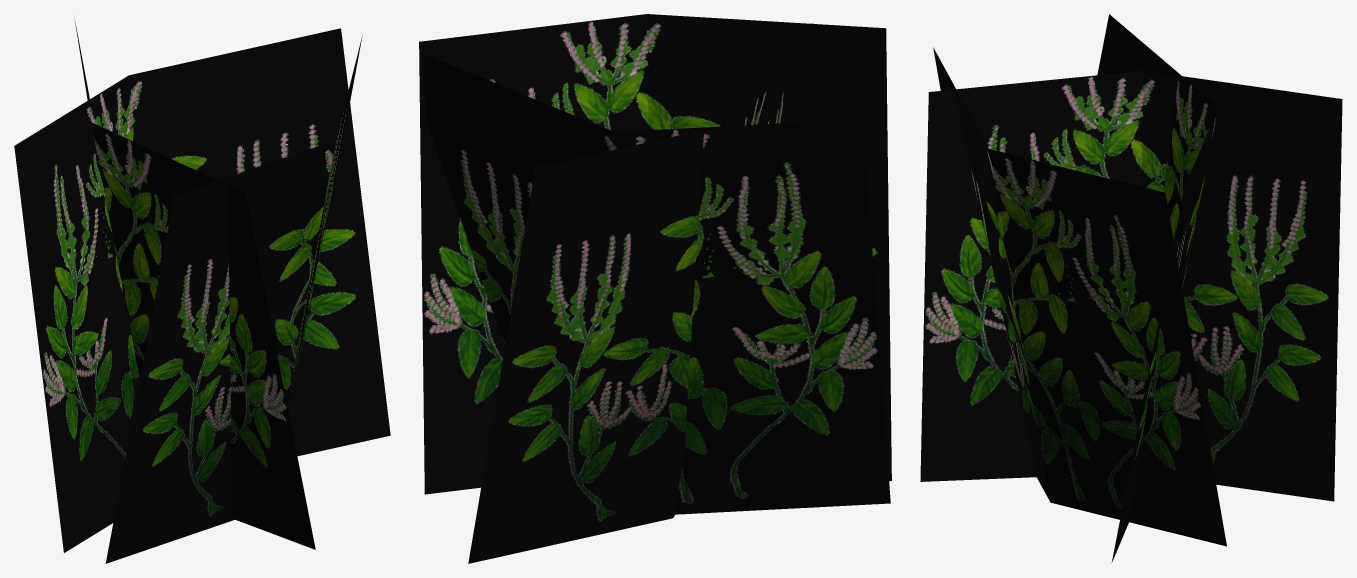
Rendered from shrub.glb.
3 views of the same model, side by side, from view 1: azimuth 30°, elevation 25°; view 2: azimuth 150°, elevation 25°; view 3: azimuth 270°, elevation 25° (orthographic). The views are drawn at different scales.
Parts seen in each view (by area): view 1: shrub; view 2: shrub; view 3: shrub.
Part boxes in pixels (left/top/right/bottom): shrub: left=14, top=17, right=390, bottom=563; shrub: left=419, top=14, right=891, bottom=563; shrub: left=920, top=14, right=1342, bottom=562.
Bounding box in the file's own units: 2.03 × 2.03 × 2.03.
Materials: 1 (1 with a texture image).
